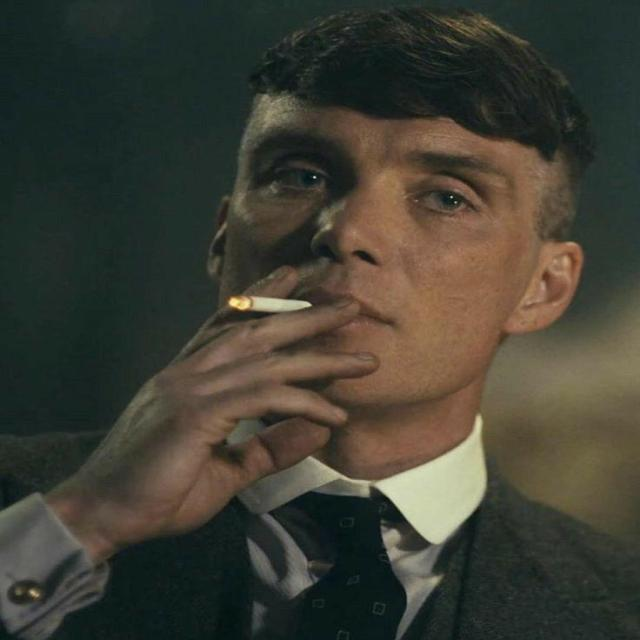cigarette: (205, 266, 334, 332)
